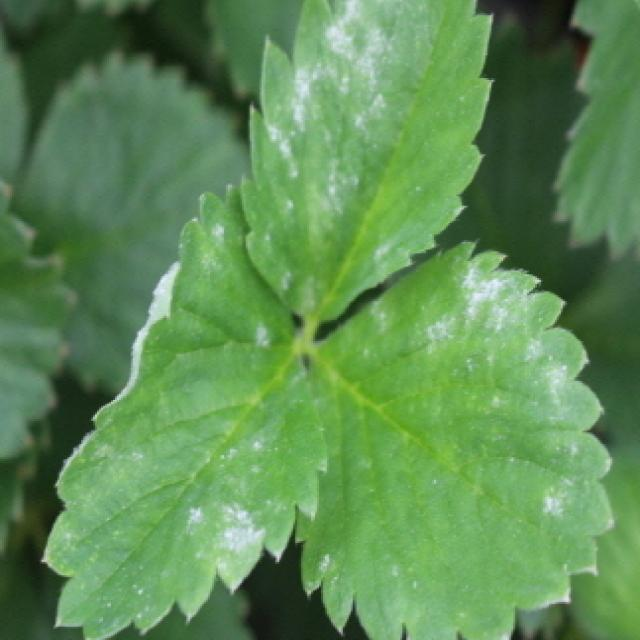Powdery Mildew Leaf: (43, 180, 326, 640), (293, 240, 617, 640), (237, 0, 495, 328)
